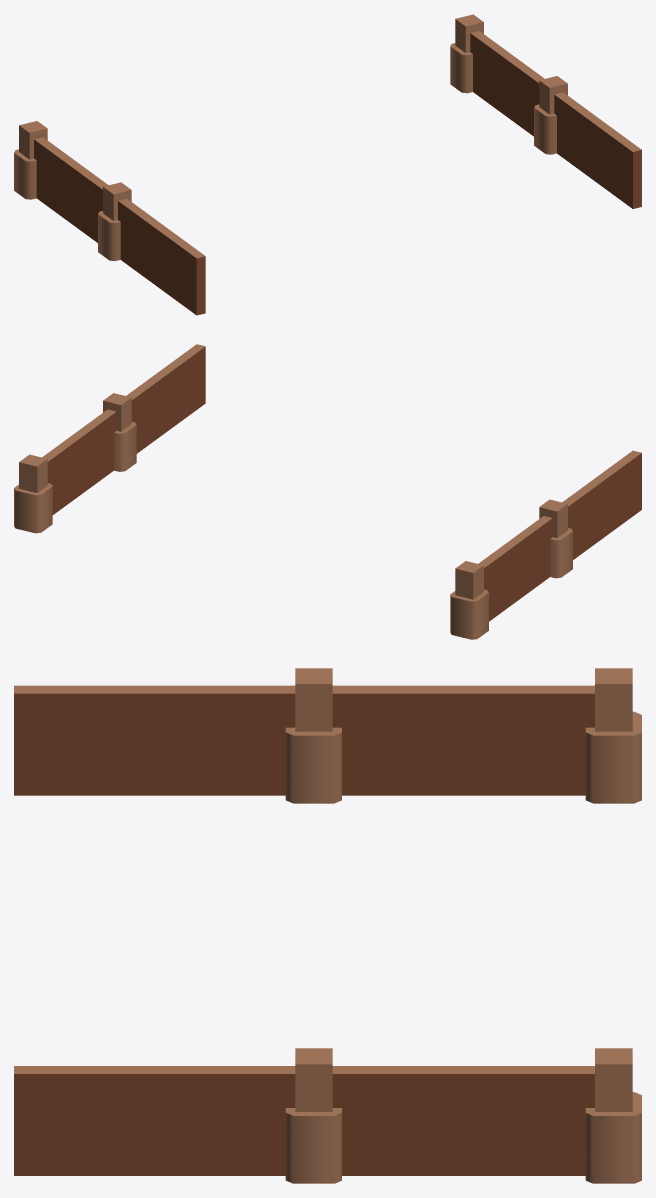
File: fence_low.gltf
The picture shows the model from 3 angles, top to bottom: view 1: azimuth 30°, elevation 25°; view 2: azimuth 150°, elevation 25°; view 3: azimuth 270°, elevation 25°; orthographic projection. The views are drawn at different scales.
Parts seen in each view (by area): view 1: fence_low; view 2: fence_low; view 3: fence_low.
Boxes of the visible parts, x1,y1,x2,y2 form: fence_low: (14, 14, 641, 315); fence_low: (14, 344, 641, 639); fence_low: (14, 668, 641, 1183).
Bounding box in the file's own units: 2 × 0.2667 × 1.31.
